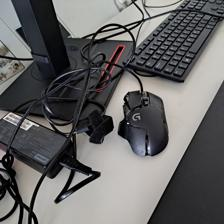mouse: (116, 88, 169, 158)
